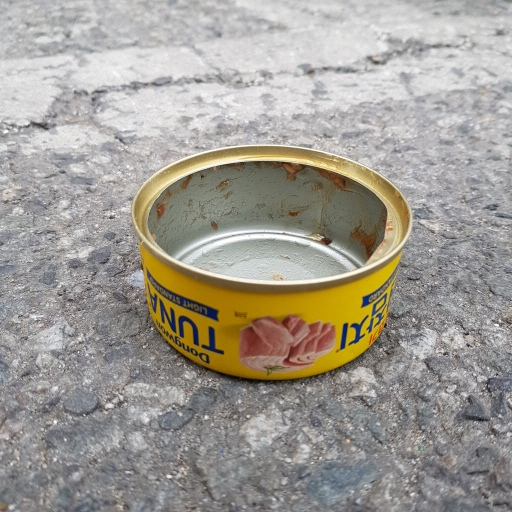Metal_1: (129, 141, 413, 378)
